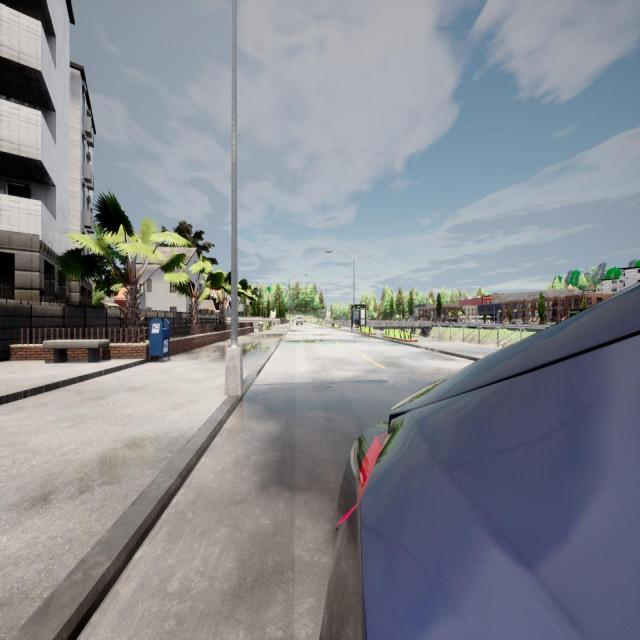Vehicle: (318, 283, 640, 640), (295, 313, 304, 325)
